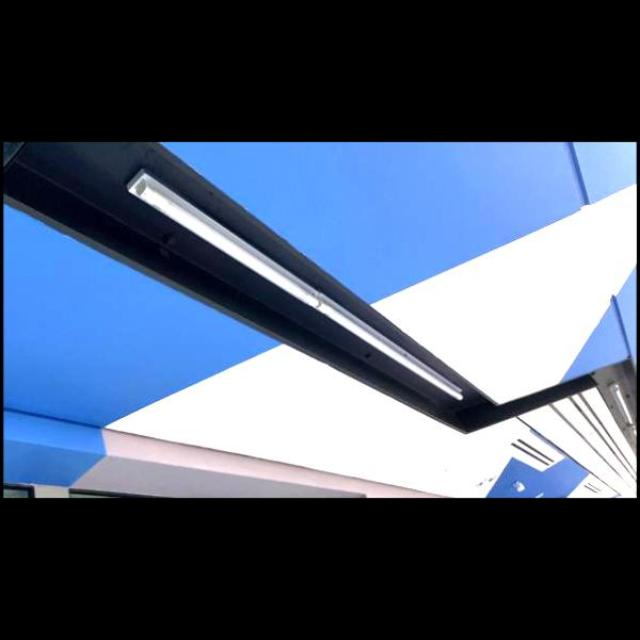Straight-Tube-Fluorescent-Lamp: (121, 170, 473, 416)
